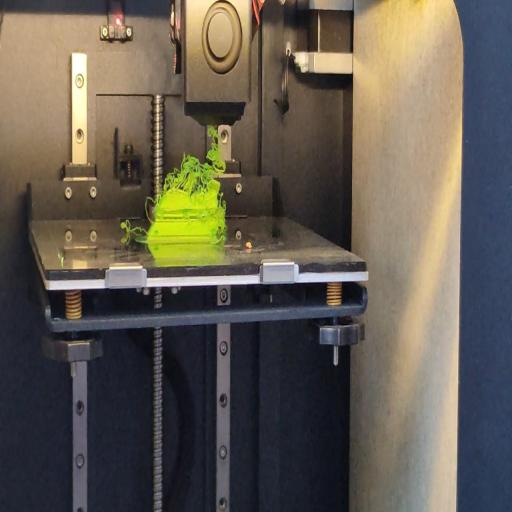spaghetti: (159, 120, 226, 195), (118, 218, 149, 236), (144, 195, 152, 222), (218, 230, 224, 242)
